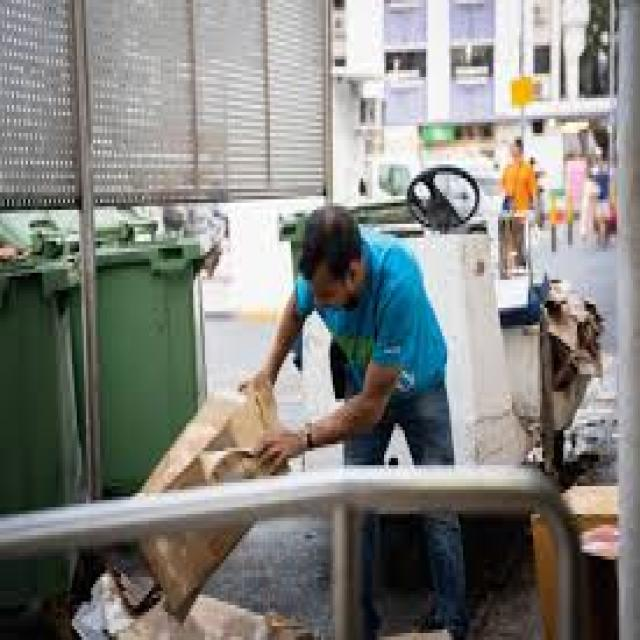bin_empty: (76, 210, 207, 598)
bin_full: (3, 201, 75, 633)
bulk_waste: (528, 482, 619, 636), (540, 279, 605, 392)
normal_waste: (72, 566, 147, 636)
